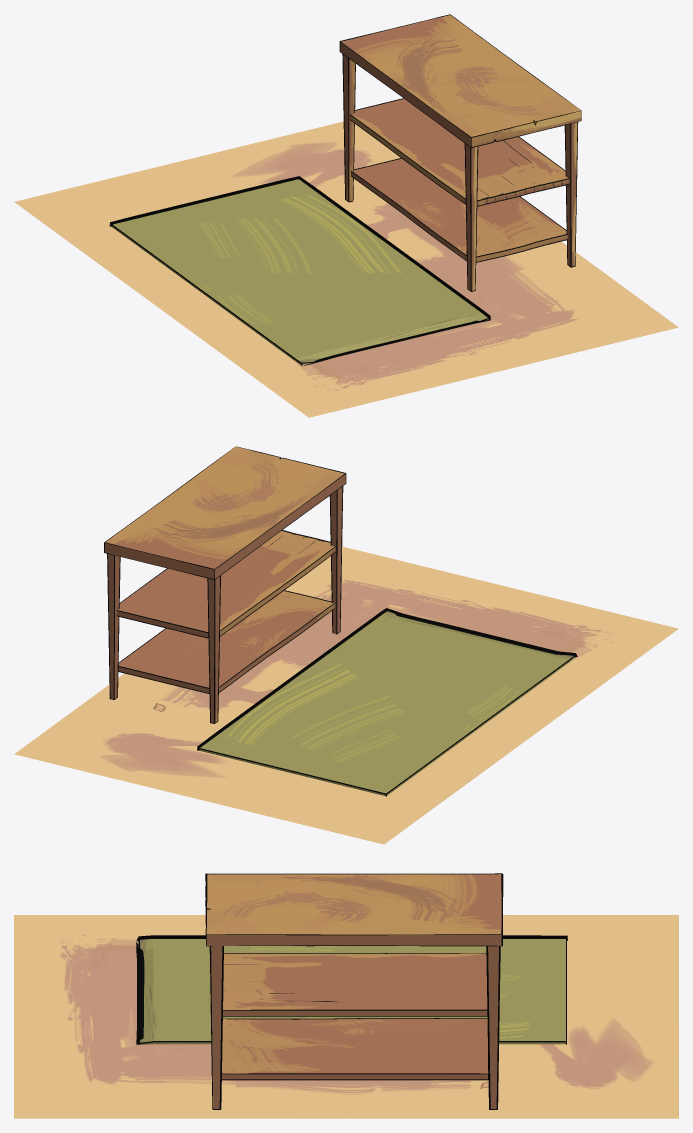
File: workbencharea.fbx
3 views of the same model, one above another, from view 1: azimuth 30°, elevation 25°; view 2: azimuth 150°, elevation 25°; view 3: azimuth 270°, elevation 25° (orthographic). The views are drawn at different scales.
Visible parts, largest first — view 1: floor, carpet, workbenchlegs, workbenchtop, workbenchlegsoutline, carpetoutline2, carpetoutline3, workbenchtopoutline, carpetoutline4; view 2: floor, carpet, workbenchlegs, workbenchtop, workbenchlegsoutline, carpetoutline2, carpetoutline3, workbenchtopoutline; view 3: floor, workbenchlegs, workbenchtop, carpet, workbenchlegsoutline, workbenchtopoutline, carpetoutline2, carpetoutline3.
Part boxes in pixels (x1,y1,x2,y2): floor: (14, 121, 678, 417); carpet: (111, 179, 488, 365); workbenchlegs: (343, 55, 577, 290); workbenchtop: (340, 15, 581, 146); workbenchlegsoutline: (342, 54, 578, 291); carpetoutline2: (109, 176, 490, 365); carpetoutline3: (111, 178, 489, 365); workbenchtopoutline: (339, 14, 581, 147); carpetoutline4: (109, 177, 488, 315); floor: (14, 546, 678, 844); carpet: (199, 611, 575, 795); workbenchlegs: (108, 487, 342, 722); workbenchtop: (105, 446, 345, 578); workbenchlegsoutline: (107, 486, 343, 723); carpetoutline2: (197, 608, 577, 749); carpetoutline3: (198, 610, 576, 796); workbenchtopoutline: (104, 446, 346, 579); floor: (14, 915, 678, 1118); workbenchlegs: (211, 946, 498, 1109); workbenchtop: (206, 874, 501, 945); carpet: (138, 939, 565, 1044); workbenchlegsoutline: (209, 946, 500, 1109); workbenchtopoutline: (205, 873, 503, 946); carpetoutline2: (136, 935, 567, 1044); carpetoutline3: (138, 938, 566, 1044).
Bounding box in the file's own units: 461 × 190 × 637.
7 materials, 3 textured.
